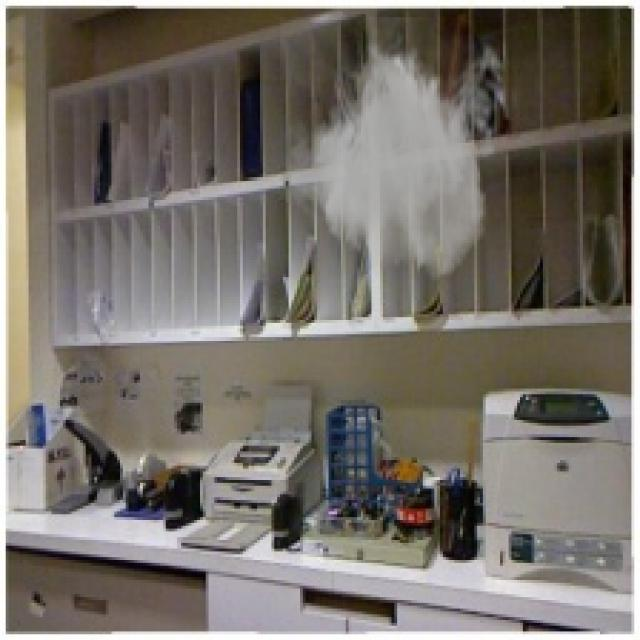smoke: (280, 17, 511, 283)
